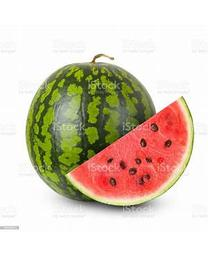watermelon: (25, 62, 194, 207)
